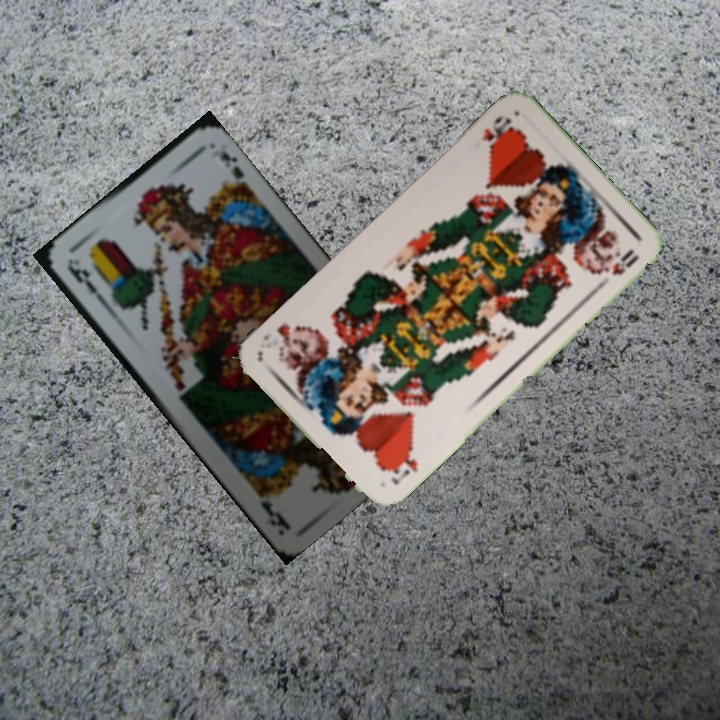EK: (63, 261, 108, 306)
HO: (477, 111, 516, 155), (385, 444, 421, 488)
